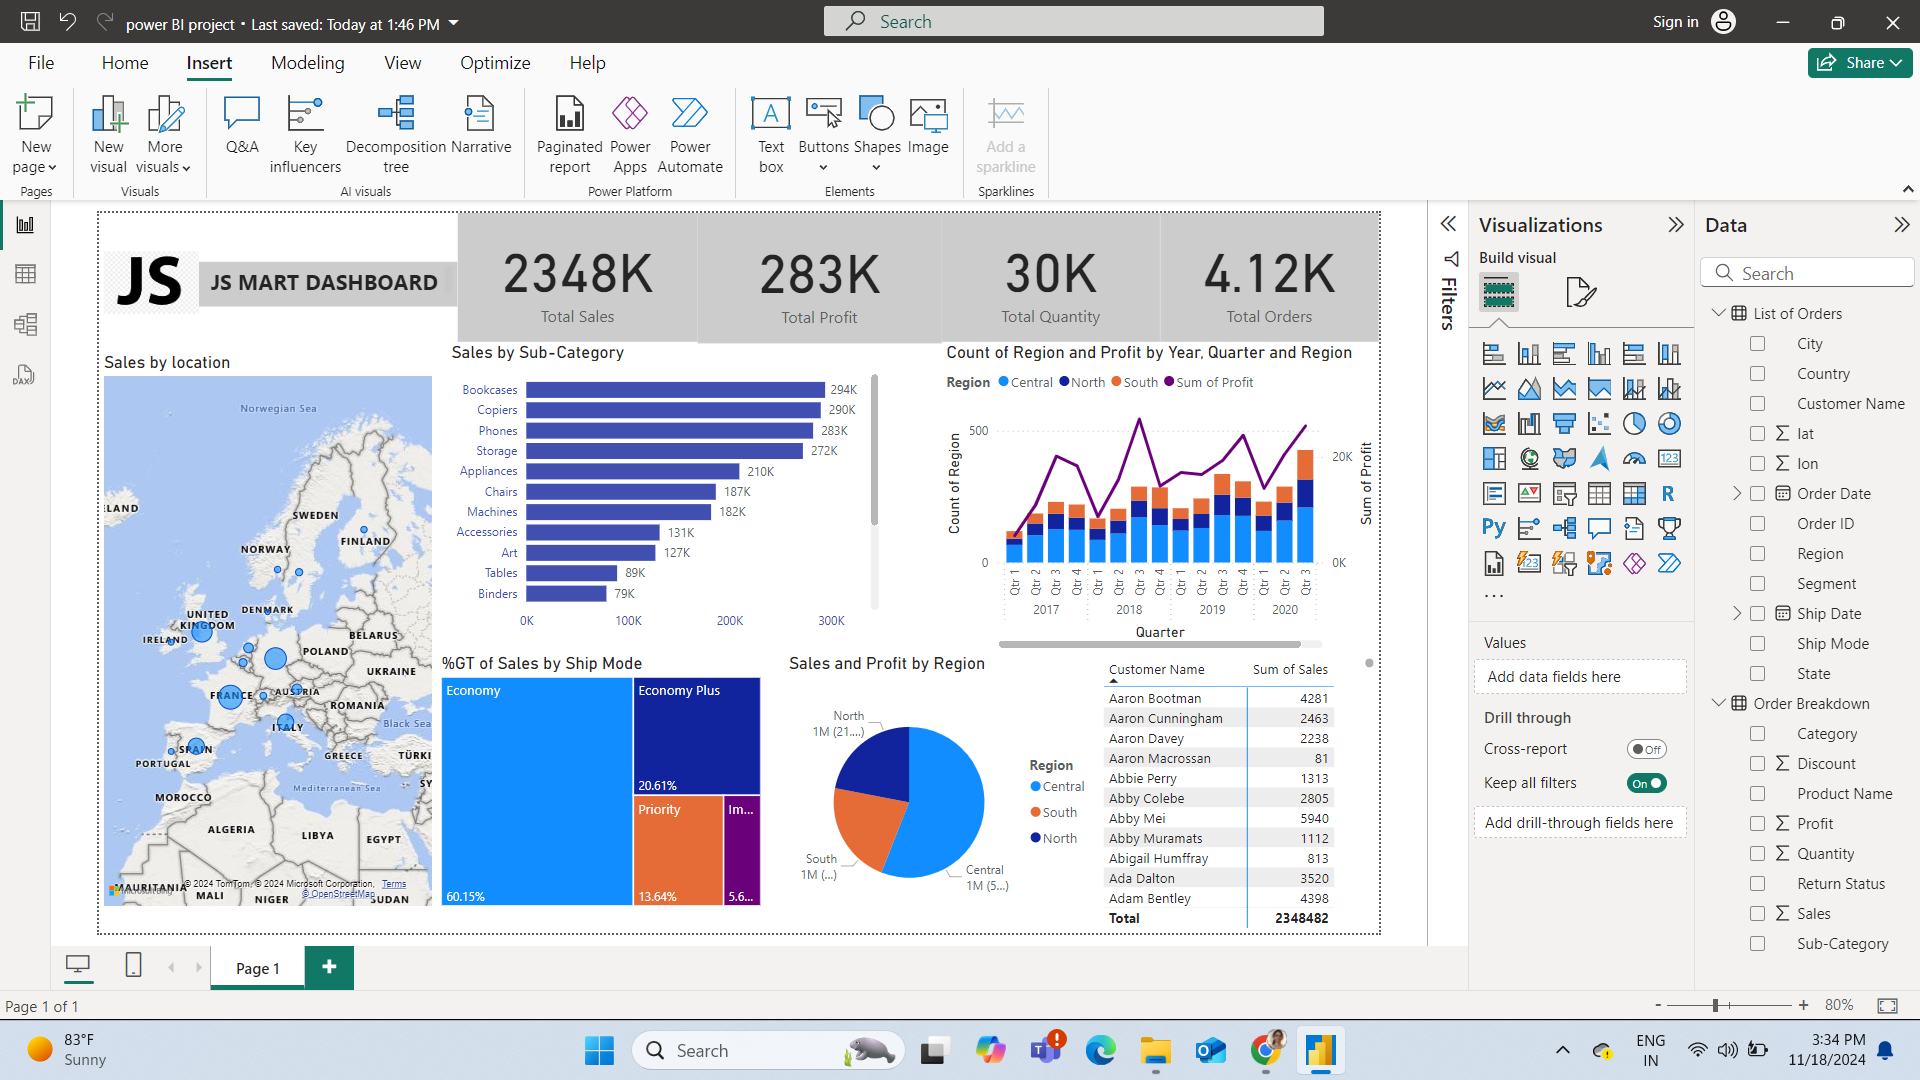

This screenshot's page, from the dashboard's own definition file:
{"tool":"powerbi","page":{"name":"Page 1","canvas":[1280,720],"ordinal":0},"visuals":[{"type":"pivotTable","fields":{"Rows":["List of Orders.Customer Name"],"Values":["Sum(Order Breakdown.Sales)"]},"box":[1000.3,440.5,279.9,279.9],"z":0},{"type":"clusteredBarChart","title":" Sales by Sub-Category","fields":{"Category":["Order Breakdown.Sub-Category","Order Breakdown.Profit"],"Y":["Sum(Order Breakdown.Sales)"]},"box":[347.5,128.8,437.5,297.5],"z":1000},{"type":"pieChart","title":" Sales and Profit by Region","fields":{"Category":["List of Orders.Region"],"Y":["Sum(Order Breakdown.Sales)"]},"box":[684.7,440.5,315.6,279.9],"z":2000},{"type":"treemap","title":"%GT of Sales by Ship Mode","fields":{"Values":["Sum(Order Breakdown.Sales)"],"Group":["List of Orders.Ship Mode"]},"box":[337.6,440.5,329.3,258],"z":3000},{"type":"lineStackedColumnComboChart","title":"Count of Region  and Profit by Year, Quarter and Region","fields":{"Y2":["Sum(Order Breakdown.Profit)"],"Y":["CountNonNull(List of Orders.Region)"],"Category":["List of Orders.Order Date.Variation.Date Hierarchy.Year","List of Orders.Order Date.Variation.Date Hierarchy.Quarter"],"Series":["List of Orders.Region"]},"box":[842.5,129,437.7,311.5],"z":4000},{"type":"map","title":"Sales by location","fields":{"Category":["List of Orders.Country","List of Orders.State","List of Orders.City"],"Size":["Sum(Order Breakdown.Sales)"]},"box":[0,381.2,347.5,316.2],"z":5000},{"type":"card","fields":{"Values":["Sum(Order Breakdown.Sales)"]},"box":[358.8,0,240,128.8],"z":5001},{"type":"card","fields":{"Values":["Sum(Order Breakdown.Profit)"]},"box":[598.8,0,243.8,130],"z":5003},{"type":"card","fields":{"Values":["Sum(Order Breakdown.Quantity)"]},"box":[842.5,0,218.8,128.8],"z":5004},{"type":"card","fields":{"Values":["CountNonNull(List of Orders.Order ID)"]},"box":[1061.2,0,218.8,128.8],"z":5005},{"type":"image","box":[0,0,105,138.8],"z":5006},{"type":"textbox","box":[100,48.8,258.8,45],"z":5007},{"type":"slicer","fields":{"Values":["List of Orders.Order Date"]},"box":[0,138.8,337.5,106.2],"z":5008},{"type":"slicer","fields":{"Values":["List of Orders.Ship Date"]},"box":[0,245,337.5,115],"z":5009}]}

Visuals, with their boxes on the page's 1280x720 design canvas (x1, y1, x2, y2). These are canvas units, not pixel positions in the 1920x1080 screenshot, which may show the page scaled, cropped or inside an application window:
pivotTable - List of Orders.Customer Name x Sum(Order Breakdown.Sales): 1000,440,1280,720
" Sales by Sub-Category" clusteredBarChart: 348,129,785,426
" Sales and Profit by Region" pieChart: 685,440,1000,720
"%GT of Sales by Ship Mode" treemap: 338,440,667,698
"Count of Region  and Profit by Year, Quarter and Region" lineStackedColumnComboChart: 842,129,1280,440
"Sales by location" map: 0,381,348,697
card - Sum(Order Breakdown.Sales): 359,0,599,129
card - Sum(Order Breakdown.Profit): 599,0,843,130
card - Sum(Order Breakdown.Quantity): 842,0,1061,129
card - CountNonNull(List of Orders.Order ID): 1061,0,1280,129
image: 0,0,105,139
textbox: 100,49,359,94
slicer - List of Orders.Order Date: 0,139,338,245
slicer - List of Orders.Ship Date: 0,245,338,360
